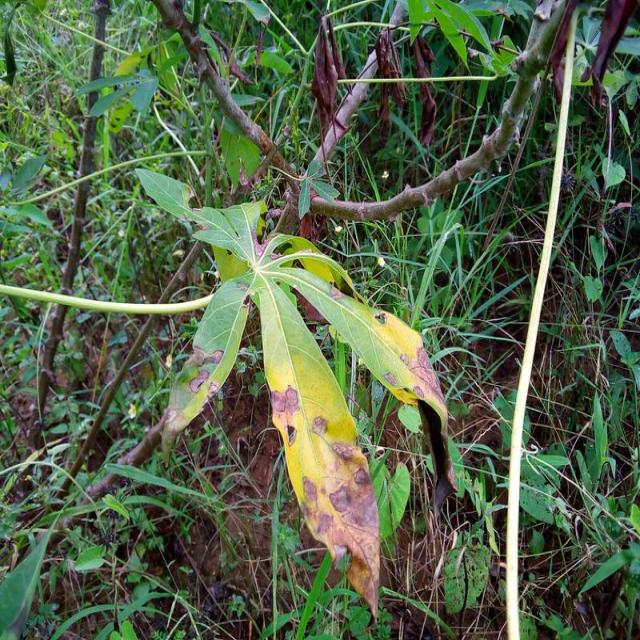cassava leaf: (2, 165, 452, 622), (187, 198, 386, 621)
